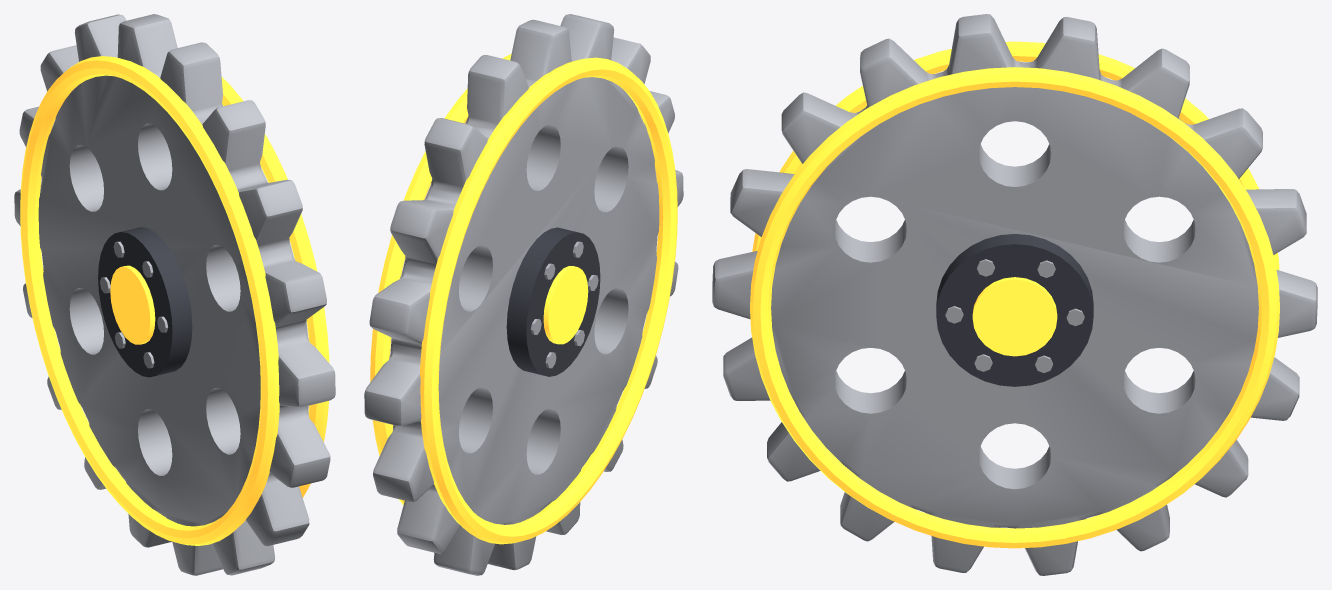
The model's file is saw.glb.
3 views of the same model, side by side, from view 1: azimuth 30°, elevation 25°; view 2: azimuth 150°, elevation 25°; view 3: azimuth 270°, elevation 25° (orthographic). The views are drawn at different scales.
Parts seen in each view (by area): view 1: Saw; view 2: Saw; view 3: Saw.
Part boxes in pixels (box(x1,y1,x2,y2)): Saw: box(14, 14, 335, 575); Saw: box(364, 14, 683, 575); Saw: box(712, 14, 1317, 575).
Size of the model in its own units: 0.36 by 1.99 by 2.
